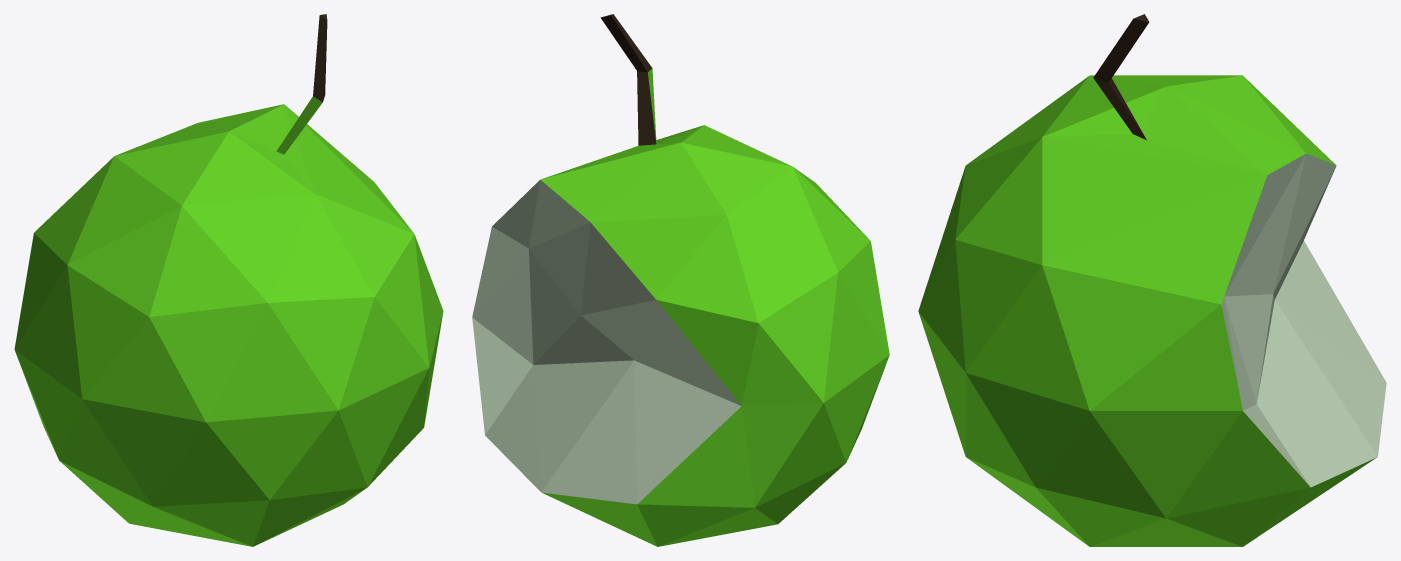
File: apple.gltf
3 renders of one model, left to right at view 1: azimuth 30°, elevation 25°; view 2: azimuth 150°, elevation 25°; view 3: azimuth 270°, elevation 25°, orthographic. The views are drawn at different scales.
Parts seen in each view (by area): view 1: Icosphere; view 2: Icosphere; view 3: Icosphere.
Boxes of the visible parts, x1,y1,x2,y2 form: Icosphere: (14, 14, 443, 546); Icosphere: (472, 14, 889, 546); Icosphere: (918, 14, 1386, 546).
Bounding box in the file's own units: 0.1206 × 0.1599 × 0.1198.
